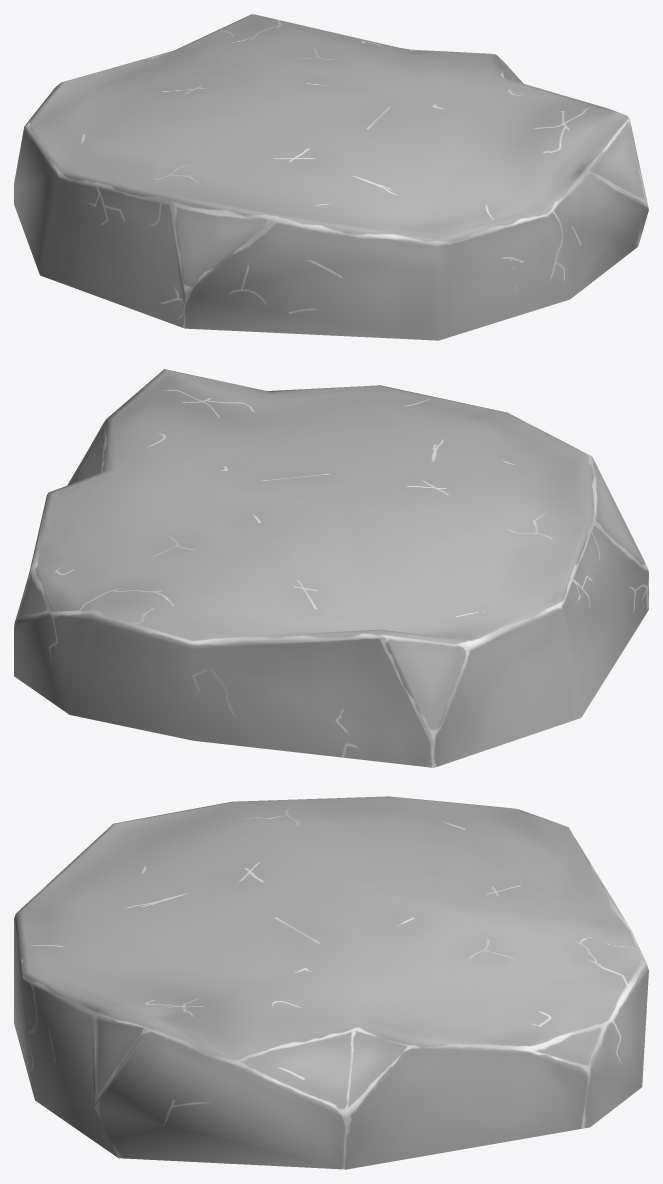
The model's file is Ice Rock.glb.
3 views of the same model, one above another, from view 1: azimuth 30°, elevation 25°; view 2: azimuth 150°, elevation 25°; view 3: azimuth 270°, elevation 25° (orthographic). The views are drawn at different scales.
Visible parts, largest first — view 1: Ice Rock; view 2: Ice Rock; view 3: Ice Rock.
Part boxes in pixels (box(x1,y1,x2,y2)): Ice Rock: box(14, 14, 648, 340); Ice Rock: box(14, 369, 648, 767); Ice Rock: box(14, 796, 648, 1169).
Bounding box in the file's own units: 0.5379 × 0.126 × 0.5255.
Materials: 1 (1 with a texture image).
